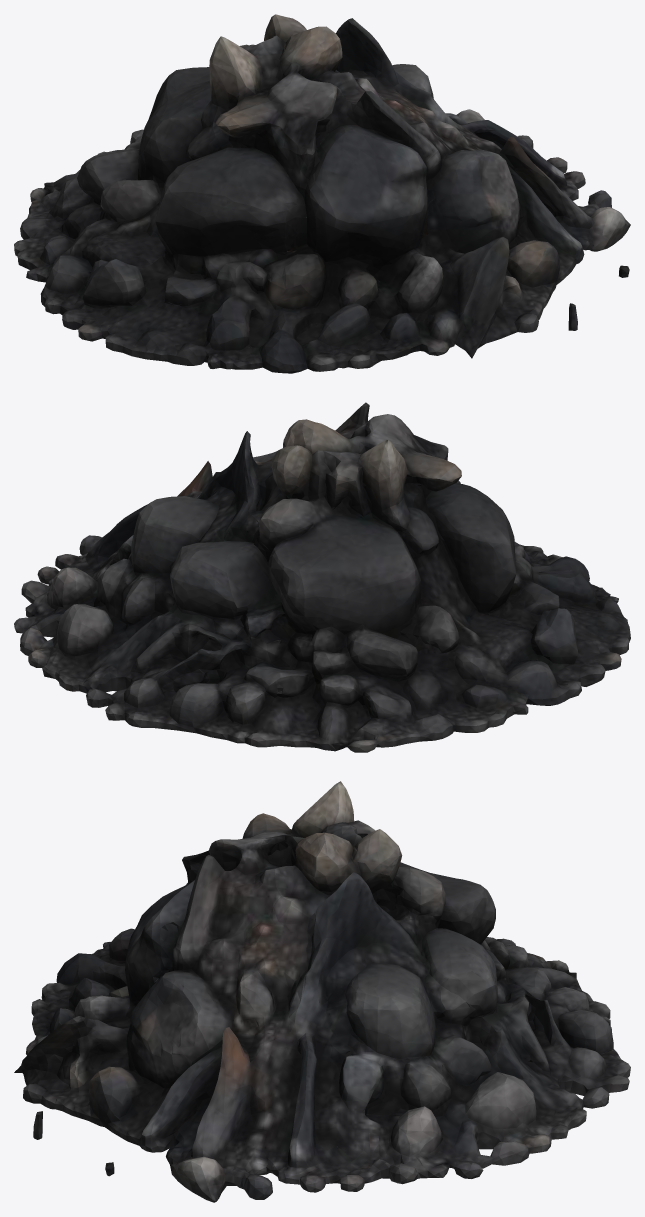
Rendered from eboulis.glb.
The picture shows the model from 3 angles, top to bottom: view 1: azimuth 30°, elevation 25°; view 2: azimuth 150°, elevation 25°; view 3: azimuth 270°, elevation 25°; orthographic projection. The views are drawn at different scales.
Parts seen in each view (by area): view 1: world; view 2: world; view 3: world.
Part boxes in pixels (bbox=[...]): world: bbox=[14, 14, 630, 373]; world: bbox=[14, 402, 630, 752]; world: bbox=[14, 781, 630, 1202].
Size of the model in its own units: 0.9949 by 0.422 by 0.9378.
1 material, 1 textured.
